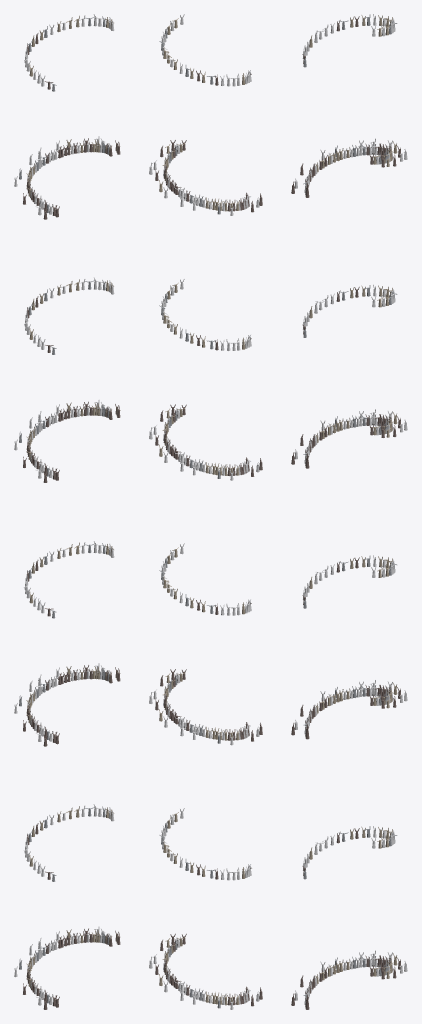
File: Circle1Crowd2.obj
3 renders of one model, left to right at view 1: azimuth 30°, elevation 25°; view 2: azimuth 150°, elevation 25°; view 3: azimuth 330°, elevation 25°, orthographic. The views are drawn at different scales.
Parts seen in each view (by area): view 1: Circle1Crowd2; view 2: Circle1Crowd2; view 3: Circle1Crowd2.
Boxes of the visible parts, bbox=[...] form: Circle1Crowd2: bbox=[14, 14, 120, 1009]; Circle1Crowd2: bbox=[149, 14, 262, 1009]; Circle1Crowd2: bbox=[291, 14, 407, 1009].
Size of the model in its own units: 30.01 by 294 by 24.29.
Materials: 1 (1 with a texture image).
